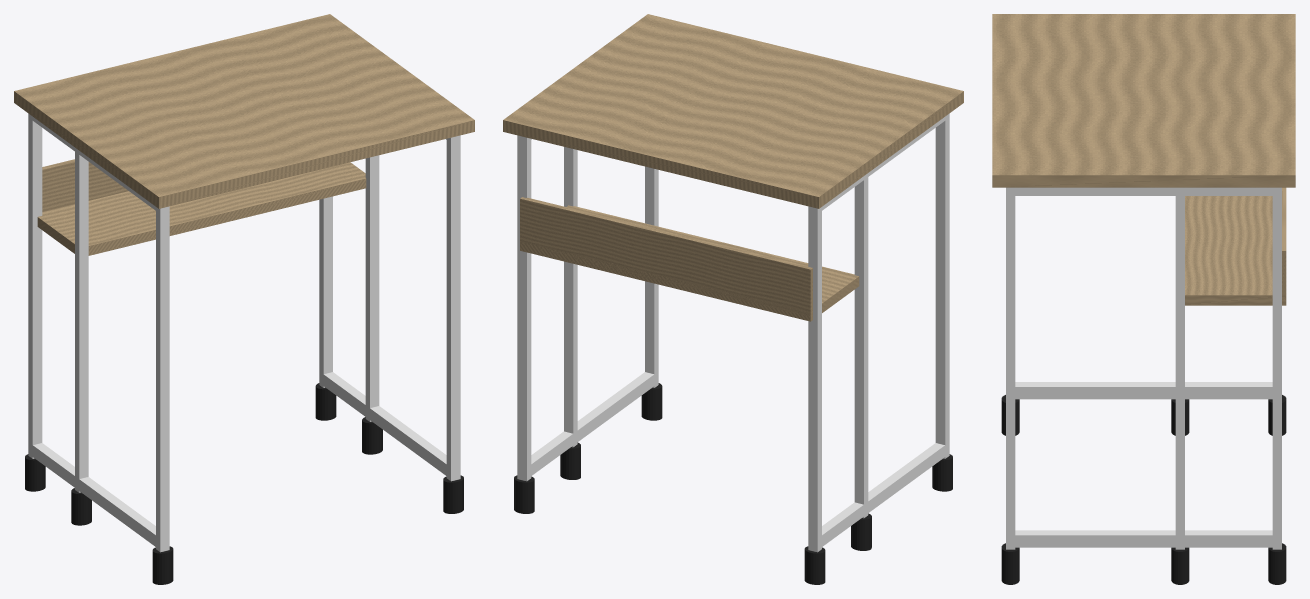
3 renders of one model, left to right at view 1: azimuth 30°, elevation 25°; view 2: azimuth 150°, elevation 25°; view 3: azimuth 270°, elevation 25°, orthographic. The views are drawn at different scales.
Visible parts, largest first — view 1: 1 tabletop, 2 shelf_bottom, 5 leg_front_right, 8 leg_back_left, 4 leg_front_left, 6 leg_mid_left, 7 leg_mid_right, 10 side_bar_bottom_left, 11 side_bar_bottom_right, 9 leg_back_right, 3 shelf_back, 14 caster_front_left (+6 smaller); view 2: 1 tabletop, 3 shelf_back, 2 shelf_bottom, 4 leg_front_left, 6 leg_mid_left, 8 leg_back_left, 9 leg_back_right, 7 leg_mid_right, 10 side_bar_bottom_left, 11 side_bar_bottom_right, 5 leg_front_right, 18 caster_back_left (+6 smaller); view 3: 1 tabletop, 2 shelf_bottom, 11 side_bar_bottom_right, 10 side_bar_bottom_left, 5 leg_front_right, 7 leg_mid_right, 9 leg_back_right, 13 side_bar_top_right, 15 caster_front_right, 19 caster_back_right, 17 caster_mid_right, 3 shelf_back.
Part boxes in pixels (x1=…): 1 tabletop: x1=14, y1=14, x2=474, y2=208; 2 shelf_bottom: x1=37, y1=162, x2=366, y2=255; 5 leg_front_right: x1=446, y1=135, x2=460, y2=481; 8 leg_back_left: x1=28, y1=113, x2=42, y2=458; 4 leg_front_left: x1=156, y1=206, x2=169, y2=552; 6 leg_mid_left: x1=75, y1=148, x2=88, y2=492; 7 leg_mid_right: x1=365, y1=155, x2=379, y2=421; 10 side_bar_bottom_left: x1=29, y1=443, x2=158, y2=546; 11 side_bar_bottom_right: x1=323, y1=372, x2=446, y2=475; 9 leg_back_right: x1=319, y1=196, x2=332, y2=387; 3 shelf_back: x1=42, y1=159, x2=128, y2=211; 14 caster_front_left: x1=152, y1=546, x2=173, y2=584; 1 tabletop: x1=503, y1=14, x2=963, y2=208; 3 shelf_back: x1=520, y1=197, x2=812, y2=315; 2 shelf_bottom: x1=520, y1=205, x2=859, y2=321; 4 leg_front_left: x1=935, y1=113, x2=949, y2=458; 6 leg_mid_left: x1=854, y1=176, x2=868, y2=518; 8 leg_back_left: x1=808, y1=206, x2=821, y2=552; 9 leg_back_right: x1=517, y1=135, x2=531, y2=481; 7 leg_mid_right: x1=564, y1=147, x2=577, y2=447; 10 side_bar_bottom_left: x1=818, y1=443, x2=948, y2=549; 11 side_bar_bottom_right: x1=528, y1=372, x2=657, y2=475; 5 leg_front_right: x1=645, y1=166, x2=658, y2=387; 18 caster_back_left: x1=804, y1=546, x2=825, y2=584; 1 tabletop: x1=992, y1=14, x2=1295, y2=187; 2 shelf_bottom: x1=1185, y1=196, x2=1286, y2=305; 11 side_bar_bottom_right: x1=1007, y1=530, x2=1280, y2=547; 10 side_bar_bottom_left: x1=1015, y1=382, x2=1272, y2=399; 5 leg_front_right: x1=1006, y1=187, x2=1015, y2=549; 7 leg_mid_right: x1=1175, y1=187, x2=1184, y2=549; 9 leg_back_right: x1=1272, y1=187, x2=1281, y2=549; 13 side_bar_top_right: x1=1011, y1=187, x2=1276, y2=195; 15 caster_front_right: x1=1001, y1=543, x2=1019, y2=584; 19 caster_back_right: x1=1268, y1=543, x2=1286, y2=584; 17 caster_mid_right: x1=1171, y1=547, x2=1189, y2=584; 3 shelf_back: x1=1282, y1=187, x2=1286, y2=295.
Size of the model in its own units: 0.6299 by 0.7493 by 0.5004.
Materials: 3 (1 with a texture image).
